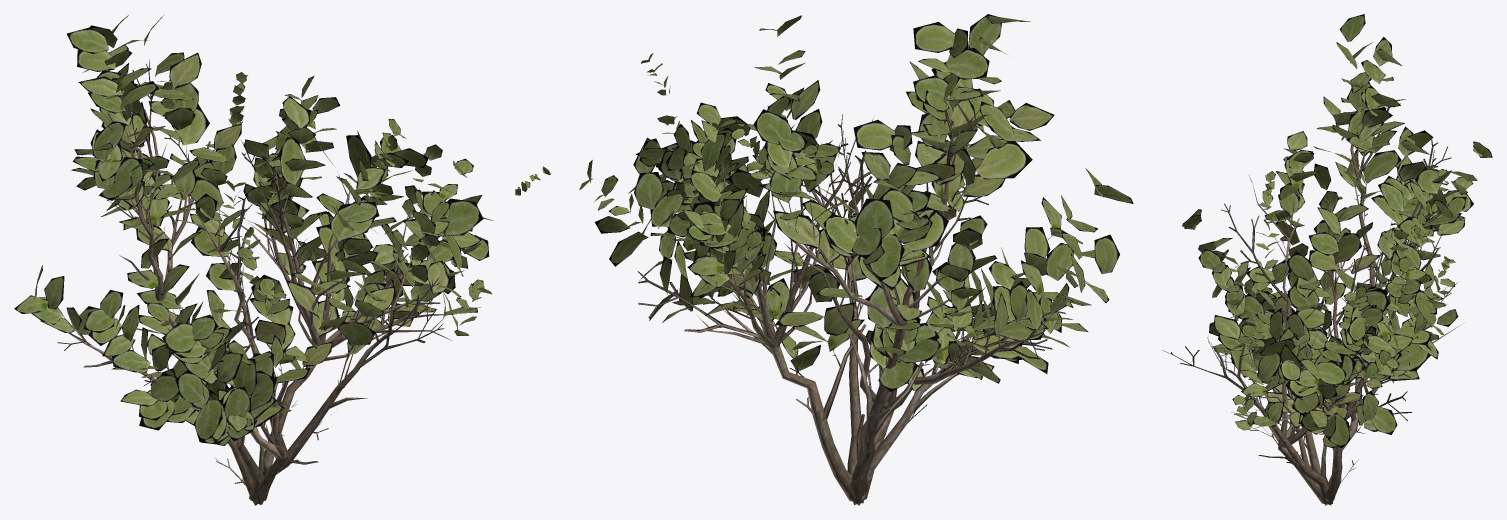
The model's file is arbuste_searsia_e_lod0.glb.
3 views of the same model, side by side, from view 1: azimuth 30°, elevation 25°; view 2: azimuth 150°, elevation 25°; view 3: azimuth 270°, elevation 25° (orthographic). The views are drawn at different scales.
Visible parts, largest first — view 1: searsia_lucida_e_LOD0; view 2: searsia_lucida_e_LOD0; view 3: searsia_lucida_e_LOD0.
Boxes of the visible parts, x1,y1,x2,y2 form: searsia_lucida_e_LOD0: (14, 15, 550, 505); searsia_lucida_e_LOD0: (579, 14, 1133, 505); searsia_lucida_e_LOD0: (1162, 14, 1492, 505).
Size of the model in its own units: 1.03 by 1.02 by 0.7258.
Materials: 2 (2 with a texture image).
